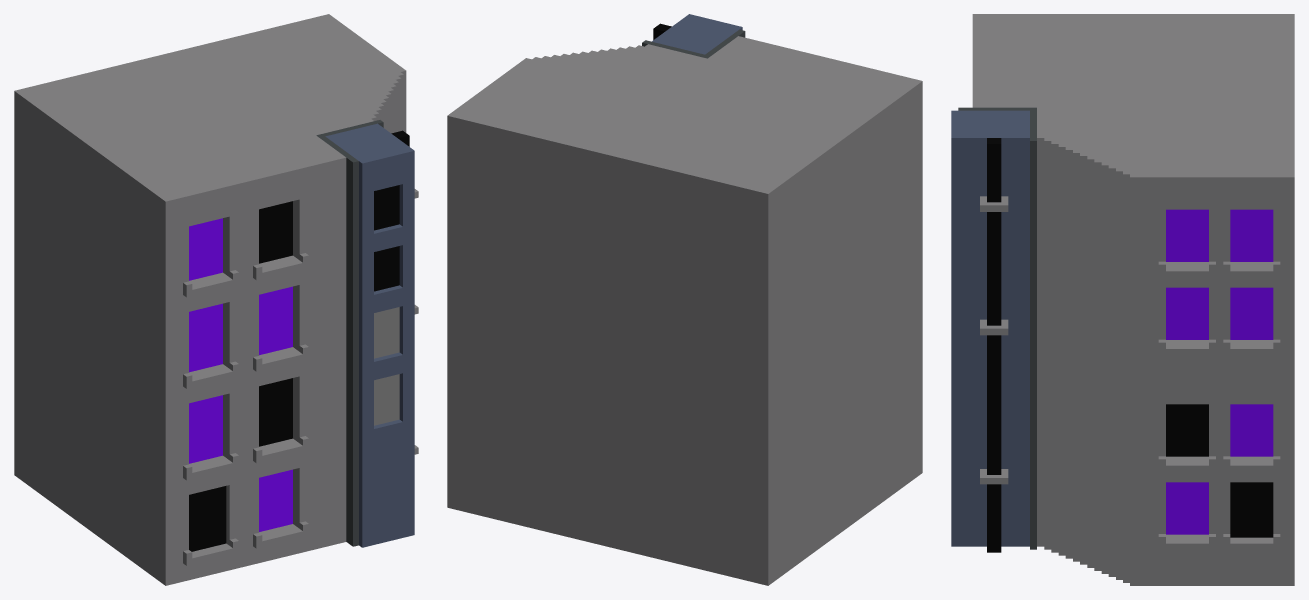
File: Building009(3).obj
3 views of the same model, side by side, from view 1: azimuth 30°, elevation 25°; view 2: azimuth 150°, elevation 25°; view 3: azimuth 270°, elevation 25° (orthographic). The views are drawn at different scales.
Bounding box in the file's own units: 5.5 × 6.3 × 4.8.
1 material, 1 textured.
